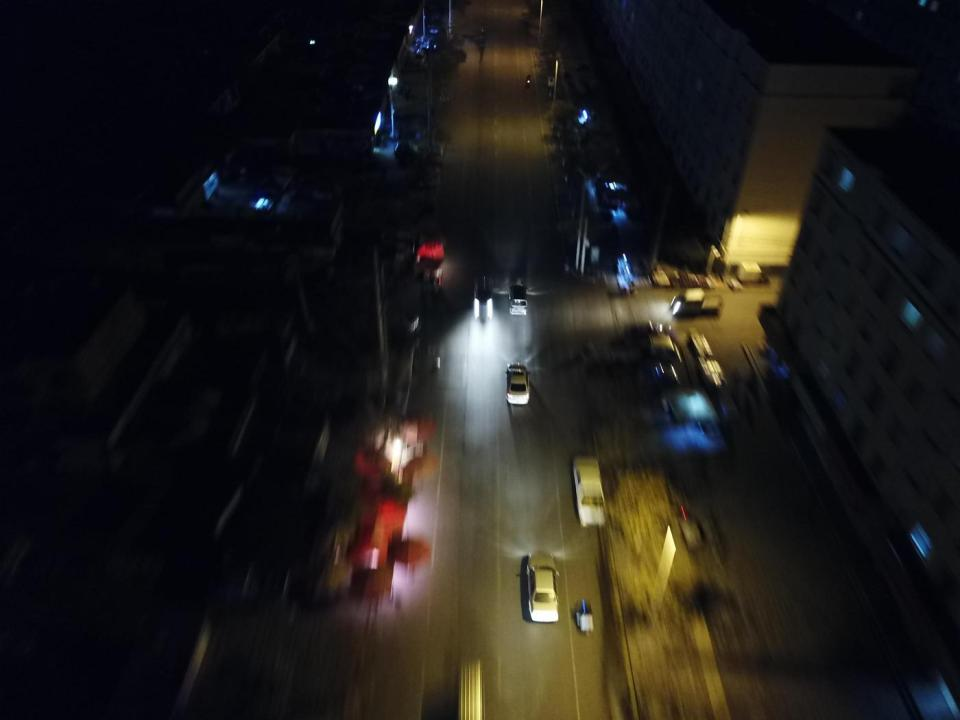car: (525, 551, 560, 624), (571, 454, 606, 527), (621, 362, 680, 387), (506, 362, 528, 406), (473, 276, 493, 322), (423, 164, 441, 188), (432, 128, 446, 155), (430, 22, 437, 35)
truck: (609, 334, 682, 368), (414, 221, 444, 292), (671, 287, 723, 318)
van: (394, 141, 426, 161), (509, 284, 526, 316), (414, 47, 425, 64)
